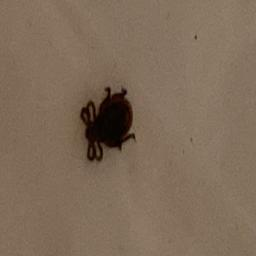Ixodes scapularis: (81, 86, 137, 162)
